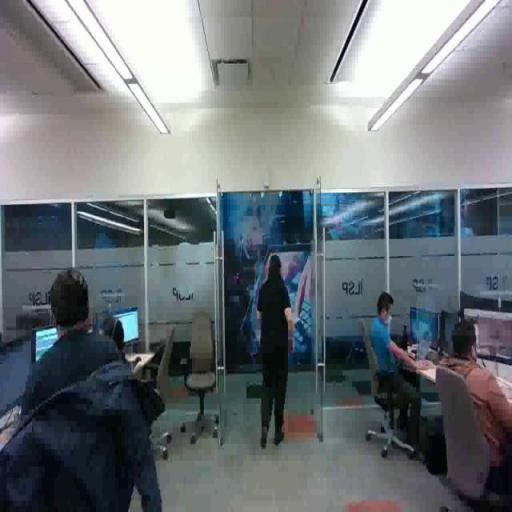person: (10, 258, 161, 512), (437, 320, 512, 512), (369, 282, 430, 454), (255, 254, 298, 453)
